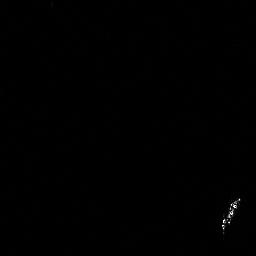ship: (220, 197, 241, 236)
